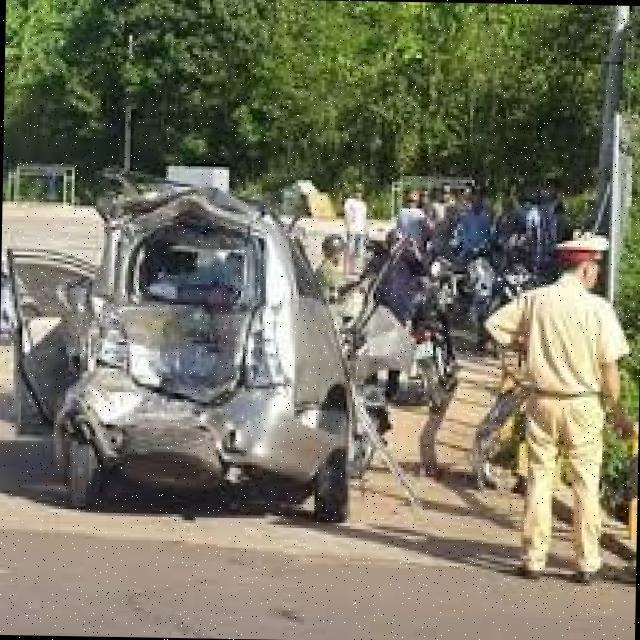accident: (0, 161, 427, 540)
